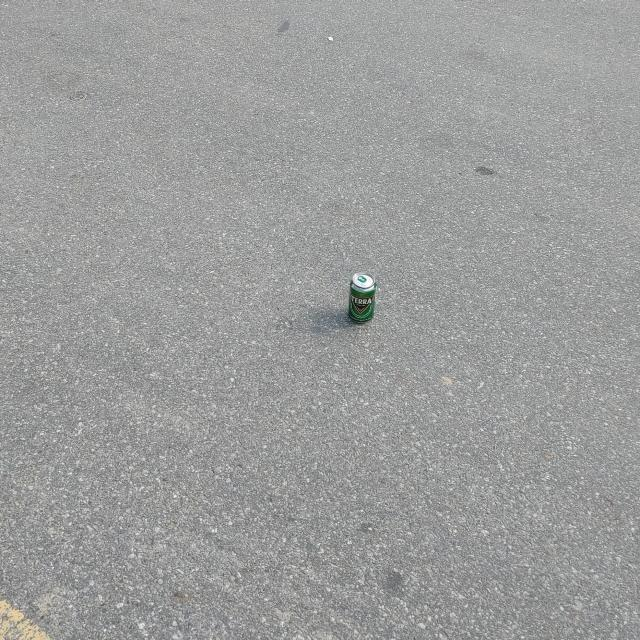can: (349, 272, 378, 323)
